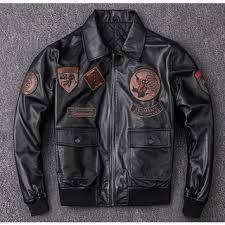jacket: (14, 9, 214, 218)
